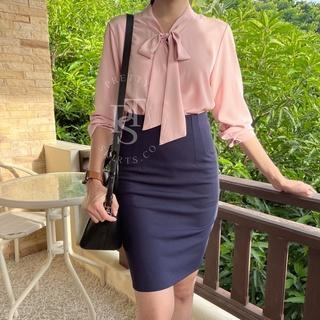shirt: (83, 13, 258, 147)
skirt: (111, 106, 226, 296)
